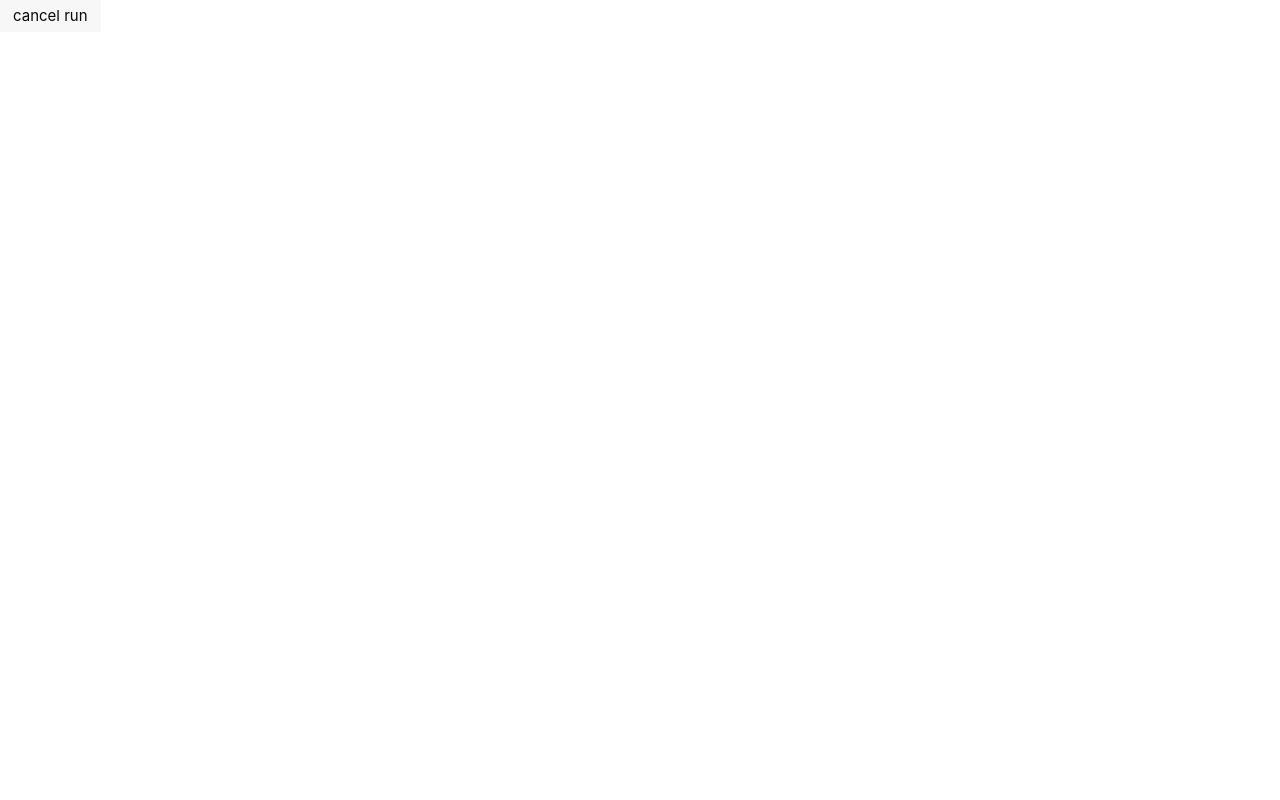
Test: name proof is exact, including case and whitespace; Escape before submit returns focus
Later steps or results of the test are not shown.
Click the button "cancel run" at coordinates (50, 16), box [0,0,100,32]
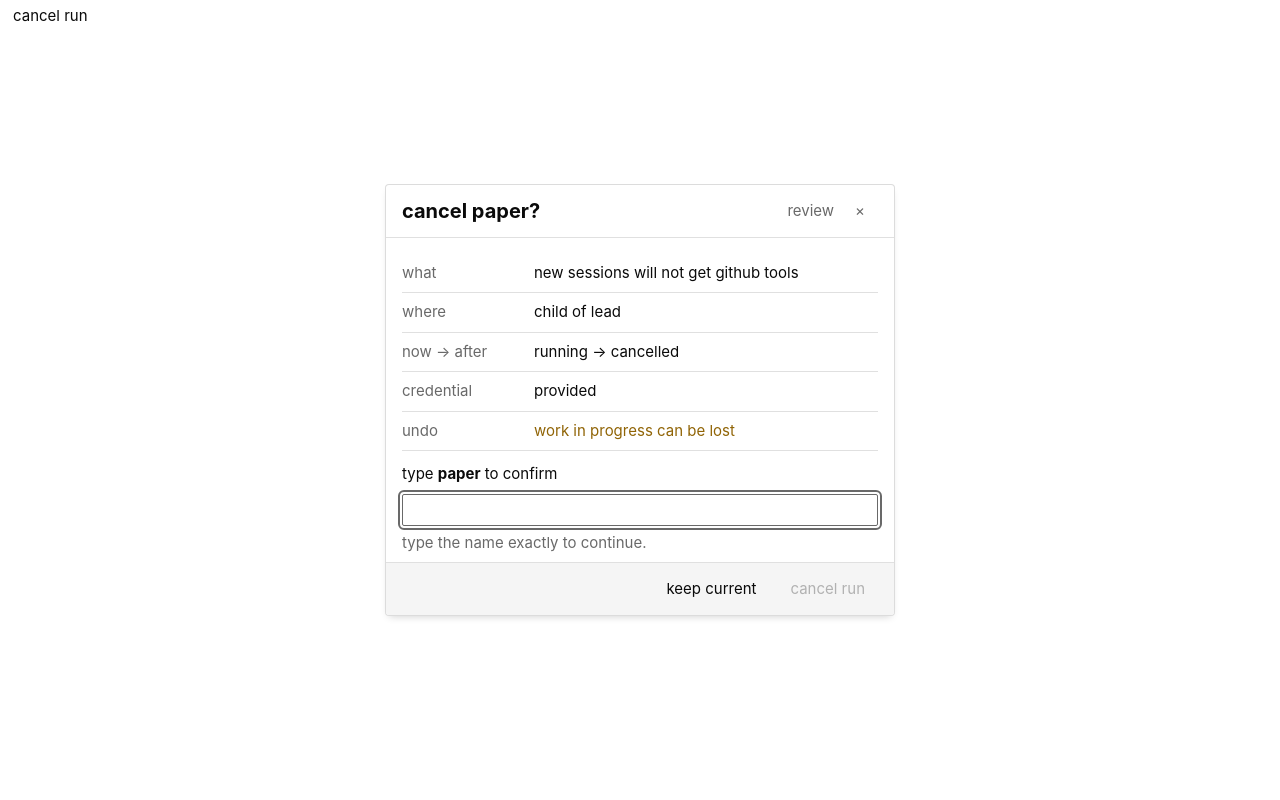
Check: the text "provided" is shown, box [534,381,596,400]
Check: the text "now → after" is shown, box [402,342,487,361]
Check: the text "running → cancelled" is shown, box [534,342,679,361]
Clear the field labelled "type paper to confirm" at coordinates (640, 510), box [402,494,878,526]
Check: the button "cancel run" is disabled, box [778,573,878,605]
Submit the form named "cancel run", box [386,185,894,615]
Type "Paper" into the field labelled "type paper to confirm" at coordinates (640, 510), box [402,494,878,526]
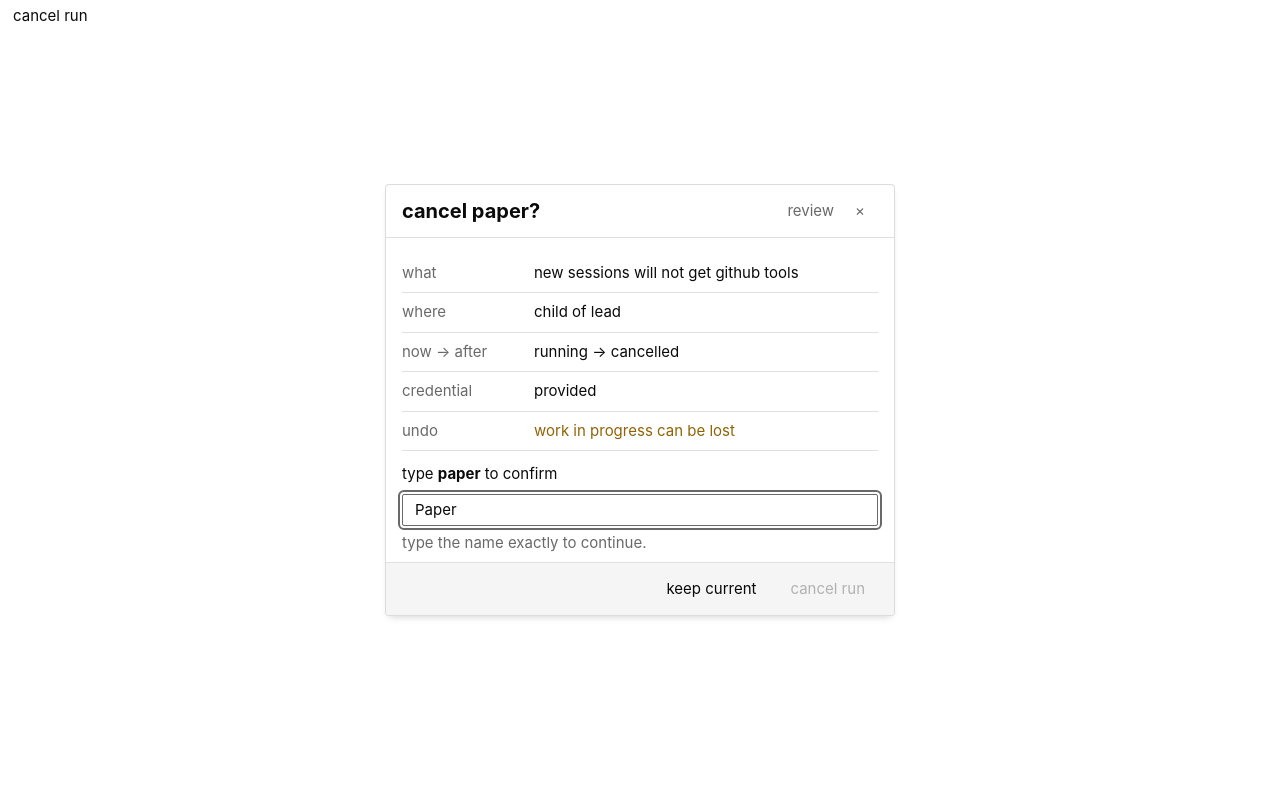
Check: the button "cancel run" is disabled, box [778,573,878,605]
Submit the form named "cancel run", box [386,185,894,615]
Replace the text in the field labelled "type paper to confirm" with "paper " at coordinates (640, 510), box [402,494,878,526]
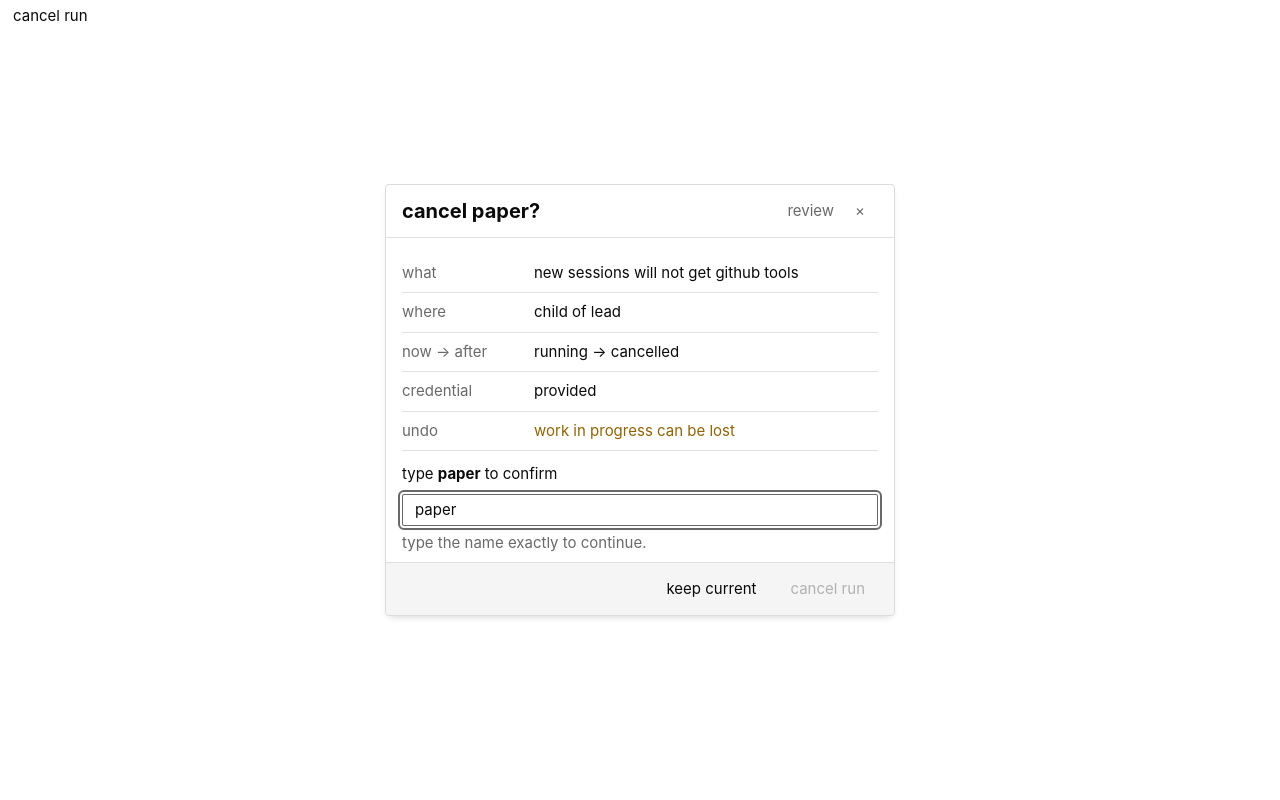
Check: the button "cancel run" is disabled, box [778,573,878,605]
